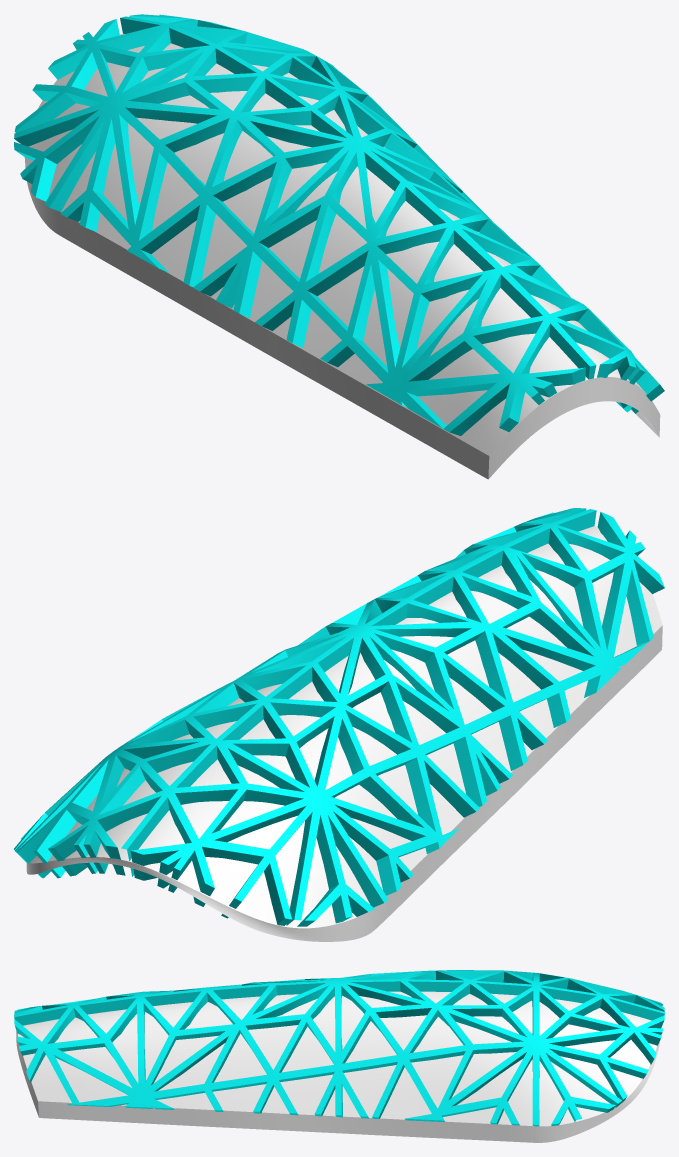
File: kaleidoscope-coffin-full.glb
The picture shows the model from 3 angles, top to bottom: view 1: azimuth 30°, elevation 25°; view 2: azimuth 150°, elevation 25°; view 3: azimuth 270°, elevation 25°; orthographic projection. The views are drawn at different scales.
Parts seen in each view (by area): view 1: MW 1.0 1868058 US, object 1; view 2: MW 1.0 1868058 US, object 1; view 3: MW 1.0 1868058 US, object 1.
Part boxes in pixels (<box>): MW 1.0 1868058 US: <box>14,14,664,435</box>; object 1: <box>24,33,660,479</box>; MW 1.0 1868058 US: <box>14,508,664,926</box>; object 1: <box>26,526,662,941</box>; MW 1.0 1868058 US: <box>14,970,664,1126</box>; object 1: <box>16,991,660,1142</box>.
Size of the model in its own units: 0.0147 by 0.00656 by 0.0353.
